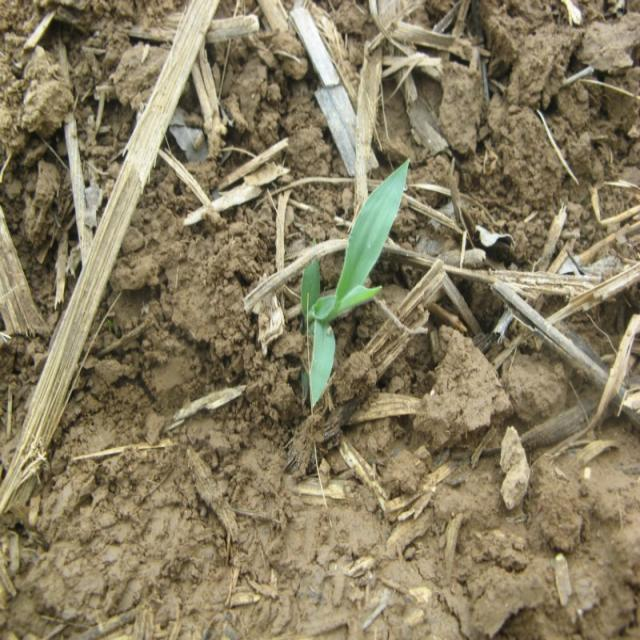bg: (299, 156, 407, 414)
